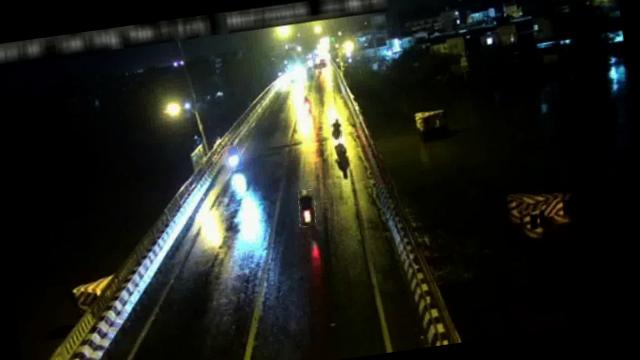Bike: (296, 189, 318, 227), (223, 145, 243, 171), (298, 91, 314, 115), (329, 116, 343, 141)
